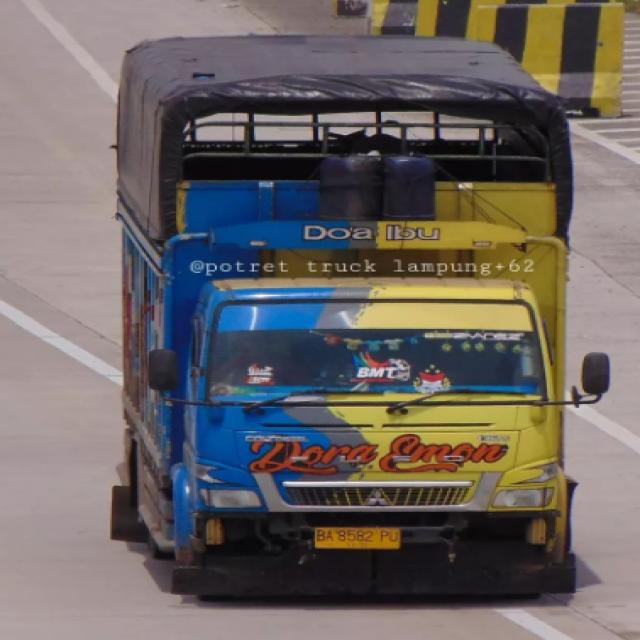truck: (96, 25, 627, 613)
